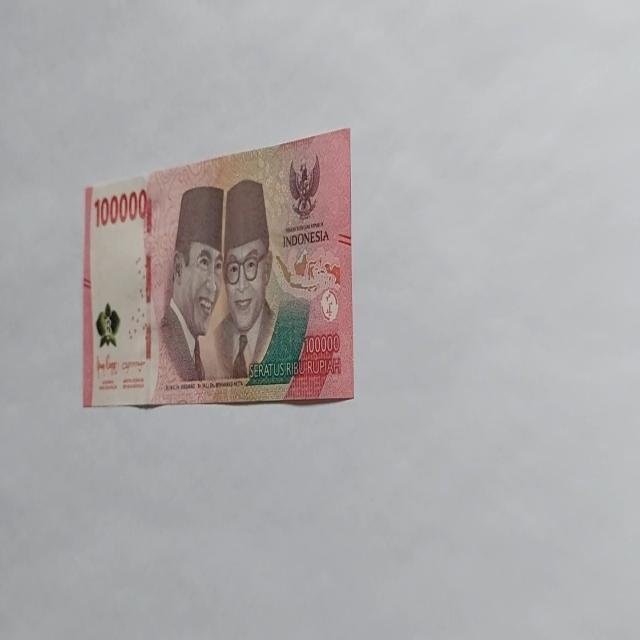seratus ribu rupiah: (82, 127, 354, 409)
